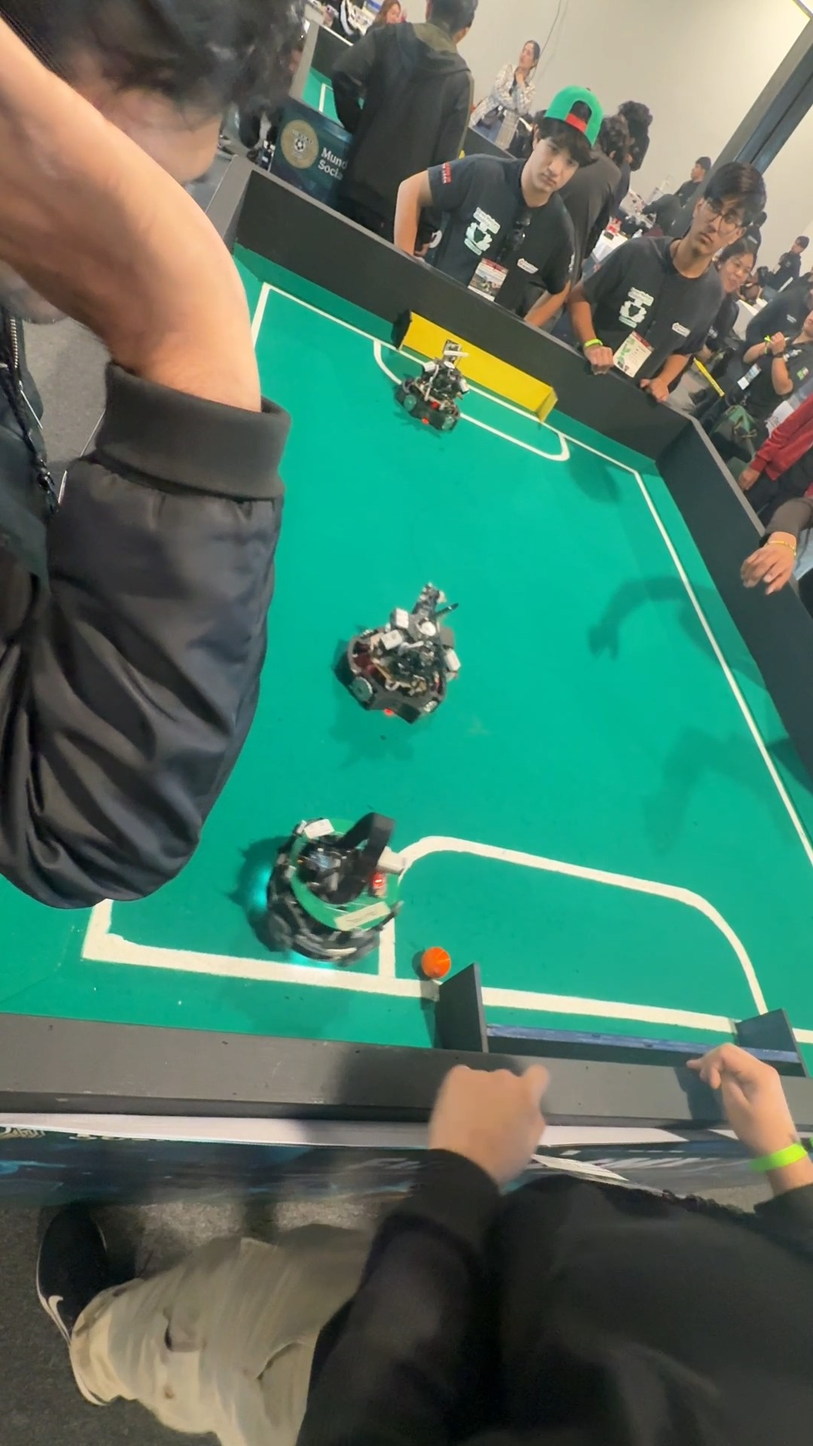Robot: (255, 771, 395, 963), (338, 571, 466, 731), (408, 335, 469, 437)
pelota: (422, 938, 450, 982)
